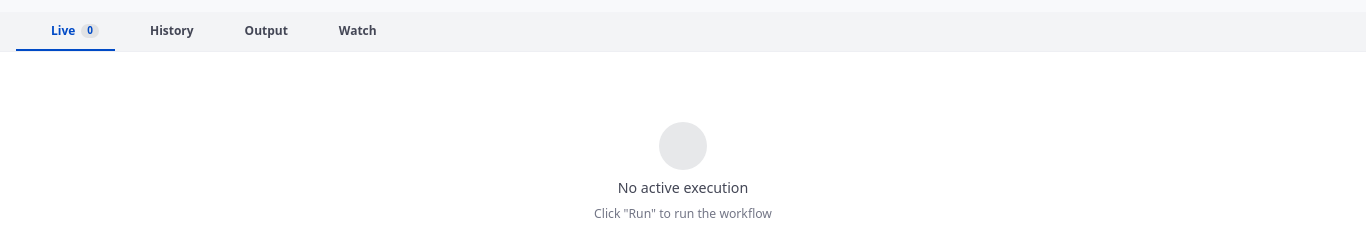
Test: ExecutionPanel › historyTab_stepTimeline_doesNotRenderSkippedSteps
Click the button "History" at (162, 32), box top-left (115, 13), bottom-right (210, 51)
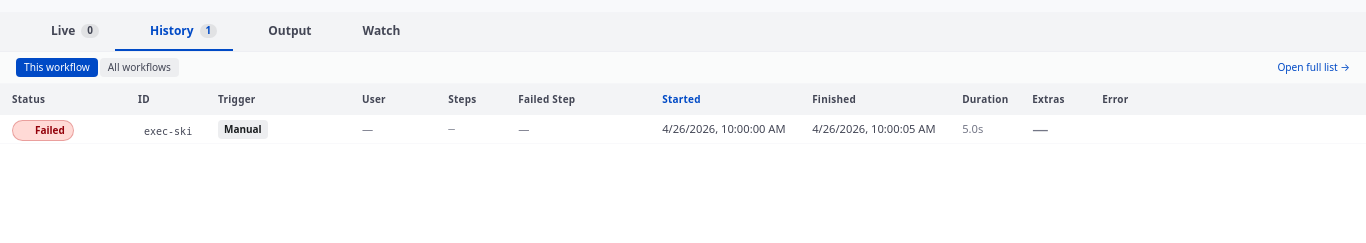
Result: the button "exec-ski" is shown at top-left (138, 122), bottom-right (198, 141)
Click the text "exec-ski" at (530, 130), box top-left (12, 118), bottom-right (1048, 141)
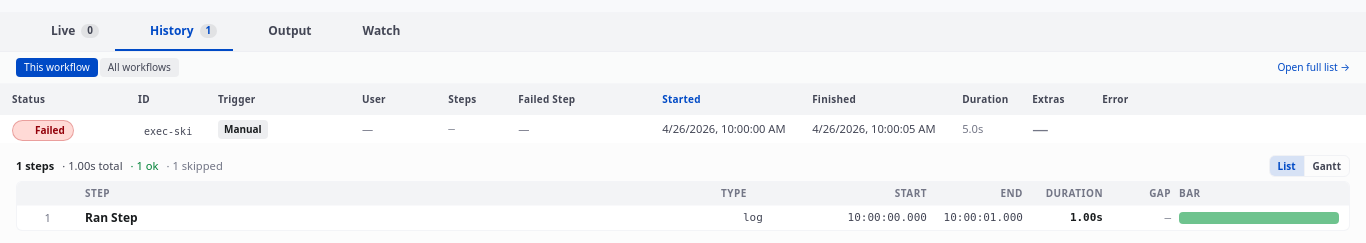
Result: the text "Ran Step" is shown at top-left (85, 209), bottom-right (138, 226)
